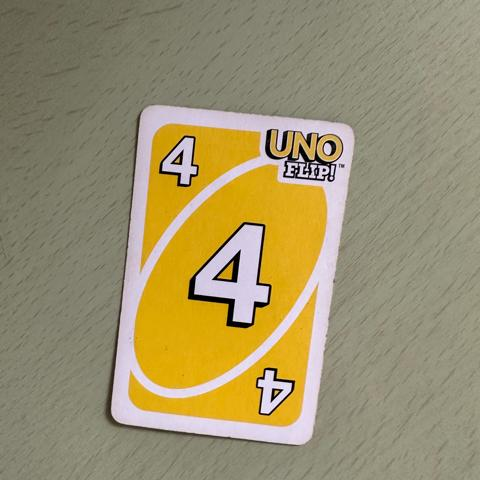skip_green: (181, 210, 282, 332), (243, 357, 295, 420), (154, 134, 204, 190)
